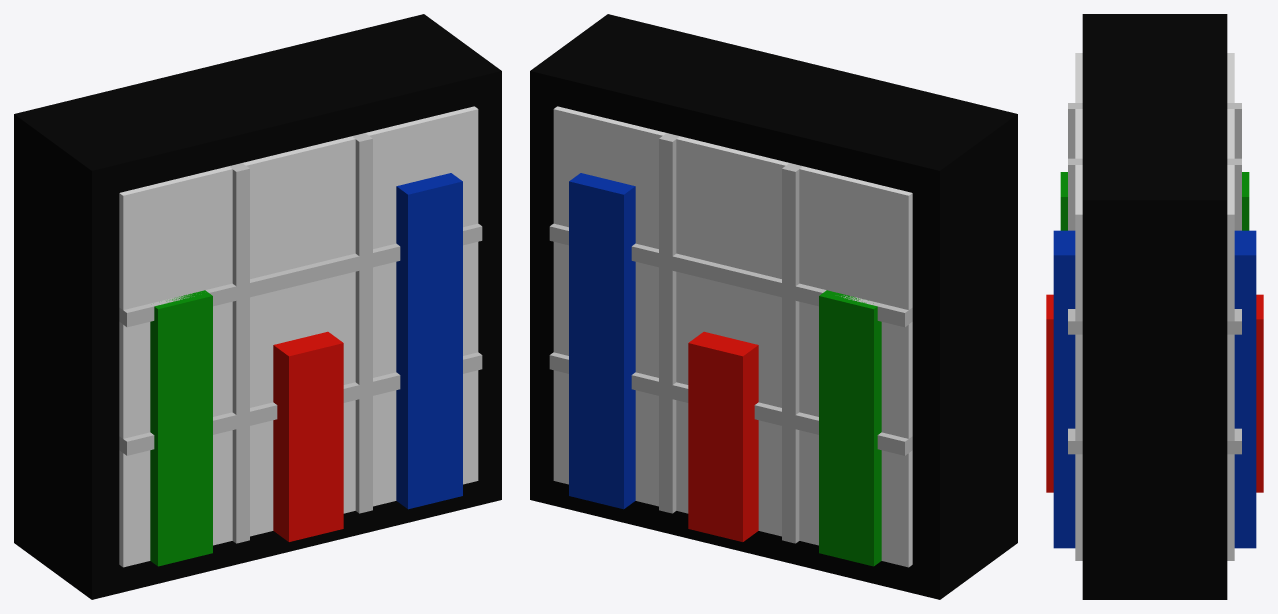
The picture shows the model from 3 angles, left to right: view 1: azimuth 30°, elevation 25°; view 2: azimuth 150°, elevation 25°; view 3: azimuth 270°, elevation 25°; orthographic projection. The views are drawn at different scales.
Visible parts, largest first — view 1: U+1F4CA_layer00_obj00, U+1F4CA_layer01_obj00, U+1F4CA_layer04_obj00, U+1F4CA_layer02_obj00, U+1F4CA_layer03_obj00, U+1F4CA_layer05_obj00; view 2: U+1F4CA_layer00_obj00, U+1F4CA_layer01_obj00, U+1F4CA_layer04_obj00, U+1F4CA_layer02_obj00, U+1F4CA_layer03_obj00, U+1F4CA_layer05_obj00; view 3: U+1F4CA_layer00_obj00, U+1F4CA_layer04_obj00, U+1F4CA_layer01_obj00, U+1F4CA_layer02_obj00, U+1F4CA_layer05_obj00, U+1F4CA_layer03_obj00.
Part boxes in pixels (bbox=[...]): U+1F4CA_layer00_obj00: bbox=[14, 14, 501, 599]; U+1F4CA_layer01_obj00: bbox=[119, 106, 478, 567]; U+1F4CA_layer04_obj00: bbox=[396, 173, 462, 509]; U+1F4CA_layer02_obj00: bbox=[119, 133, 482, 543]; U+1F4CA_layer03_obj00: bbox=[150, 290, 212, 566]; U+1F4CA_layer05_obj00: bbox=[273, 331, 343, 541]; U+1F4CA_layer00_obj00: bbox=[530, 14, 1017, 599]; U+1F4CA_layer01_obj00: bbox=[553, 106, 912, 567]; U+1F4CA_layer04_obj00: bbox=[569, 173, 635, 509]; U+1F4CA_layer02_obj00: bbox=[549, 133, 912, 543]; U+1F4CA_layer03_obj00: bbox=[819, 290, 881, 566]; U+1F4CA_layer05_obj00: bbox=[688, 331, 758, 541]; U+1F4CA_layer00_obj00: bbox=[1082, 14, 1227, 599]; U+1F4CA_layer04_obj00: bbox=[1053, 230, 1256, 548]; U+1F4CA_layer01_obj00: bbox=[1075, 53, 1234, 560]; U+1F4CA_layer02_obj00: bbox=[1068, 103, 1241, 454]; U+1F4CA_layer05_obj00: bbox=[1046, 294, 1263, 492]; U+1F4CA_layer03_obj00: bbox=[1060, 172, 1249, 230].
Bounding box in the file's own units: 0.6085 × 0.6084 × 0.3.
